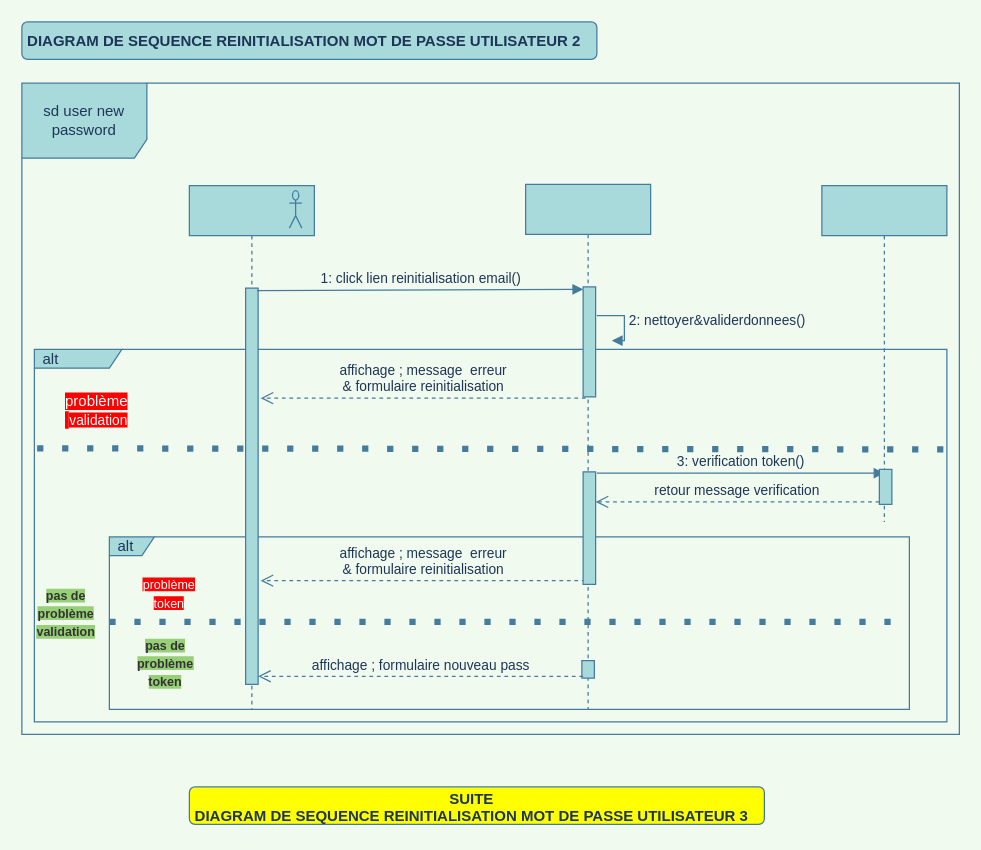
Some shapes in this 981 by 850 pixel diagram are drawn without their labels. The box of each missing label's shape, as (x1, y1, x2, y2) in pixels:
DataBase: (821, 184, 947, 522)
Systeme: (524, 183, 651, 709)
user: (188, 184, 314, 709)
